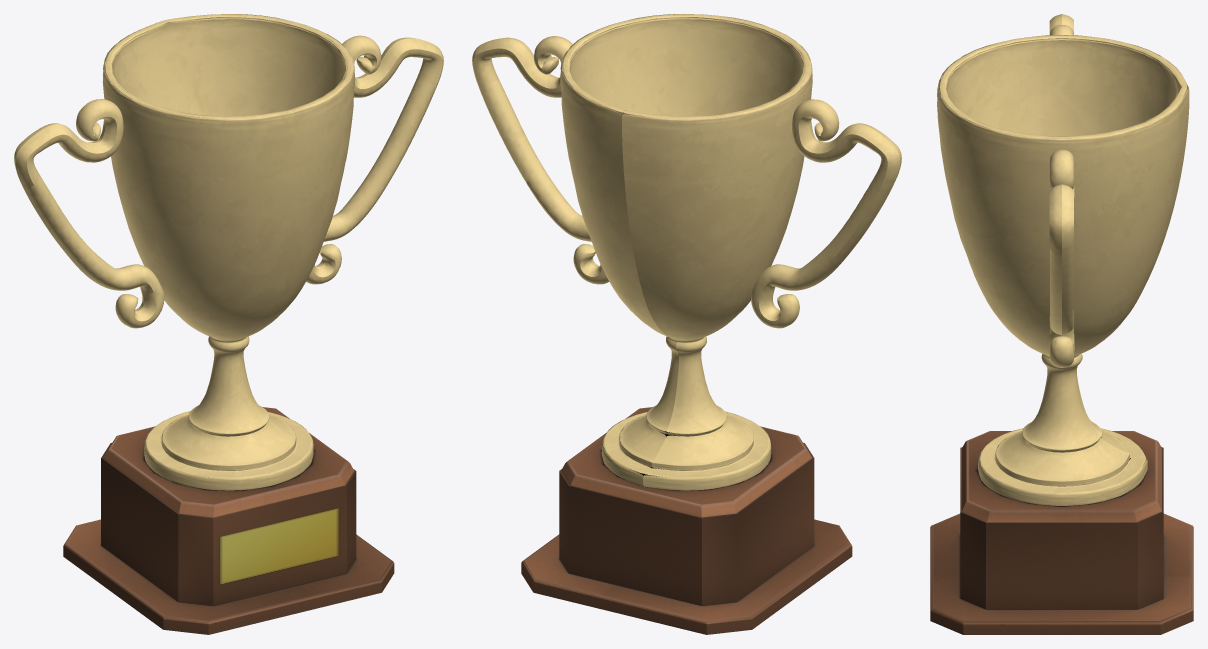
The model's file is Trophy-A.glb.
3 views of the same model, side by side, from view 1: azimuth 30°, elevation 25°; view 2: azimuth 150°, elevation 25°; view 3: azimuth 270°, elevation 25° (orthographic).
Visible parts, largest first — view 1: TrophyA; view 2: TrophyA; view 3: TrophyA.
Part boxes in pixels (x1,y1,x2,y2): TrophyA: [14, 14, 443, 634]; TrophyA: [472, 14, 901, 634]; TrophyA: [930, 14, 1193, 634].
Size of the model in its own units: 0.5436 by 0.6073 by 0.2944.
Materials: 2 (2 with a texture image).
